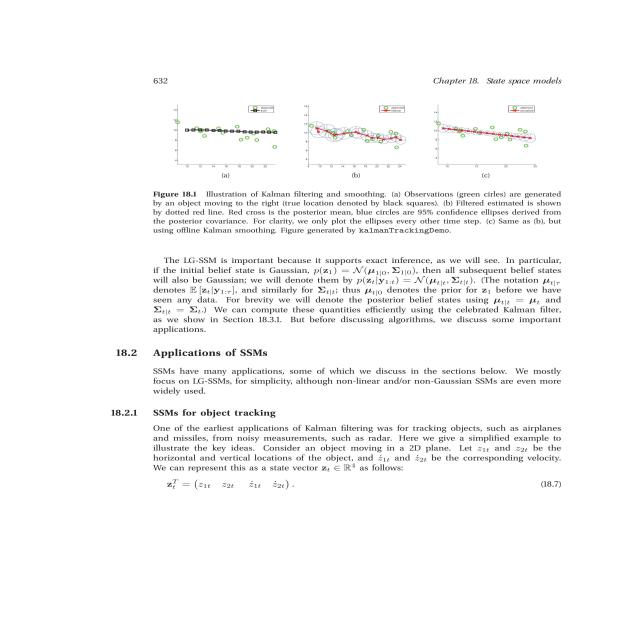diagram: (116, 91, 582, 244)
